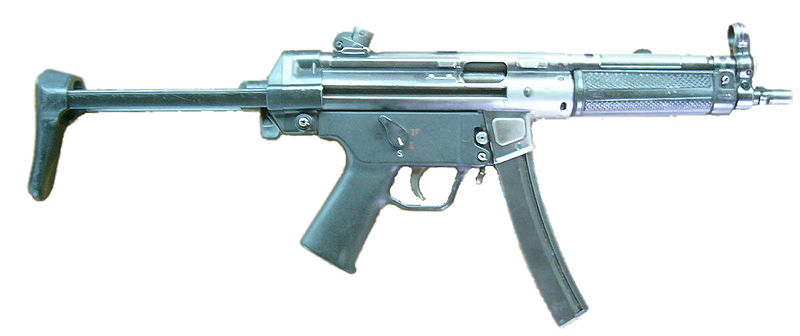gun: (21, 18, 795, 331)
